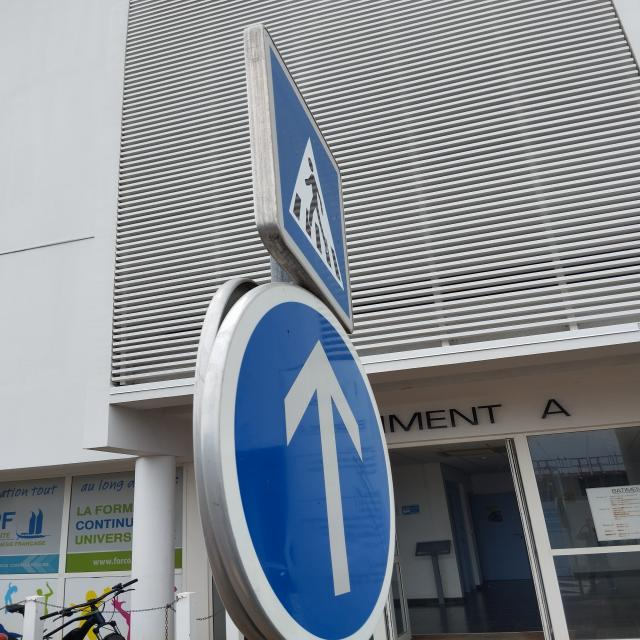Passage-pieton: (242, 25, 354, 314)
Sens-Unique: (188, 281, 398, 640)
